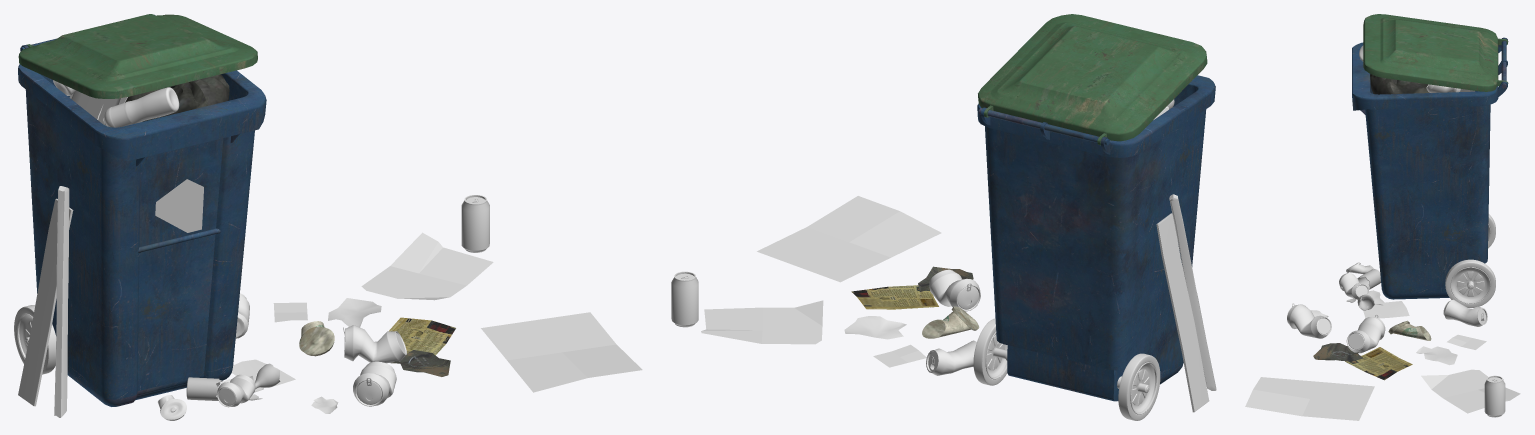
Rendered from TrashCanB.fbx.
3 renders of one model, left to right at view 1: azimuth 30°, elevation 25°; view 2: azimuth 150°, elevation 25°; view 3: azimuth 270°, elevation 25°, orthographic. The views are drawn at different scales.
Visible parts, largest first — view 1: TrashCanB; view 2: TrashCanB; view 3: TrashCanB.
Boxes of the visible parts, <box> form: TrashCanB: <box>14,14,642,420</box>; TrashCanB: <box>671,14,1216,420</box>; TrashCanB: <box>1245,14,1520,420</box>.
Bounding box in the file's own units: 1.95 × 1.24 × 1.26.
